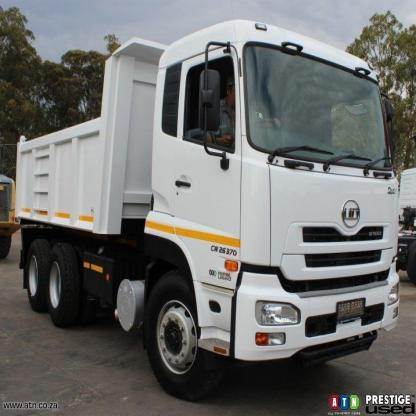dump_truck: (6, 15, 403, 404)
